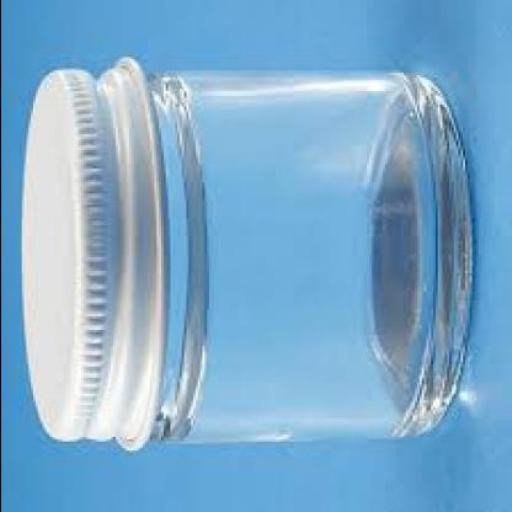glass: (146, 68, 469, 439)
metal: (19, 52, 166, 449)
